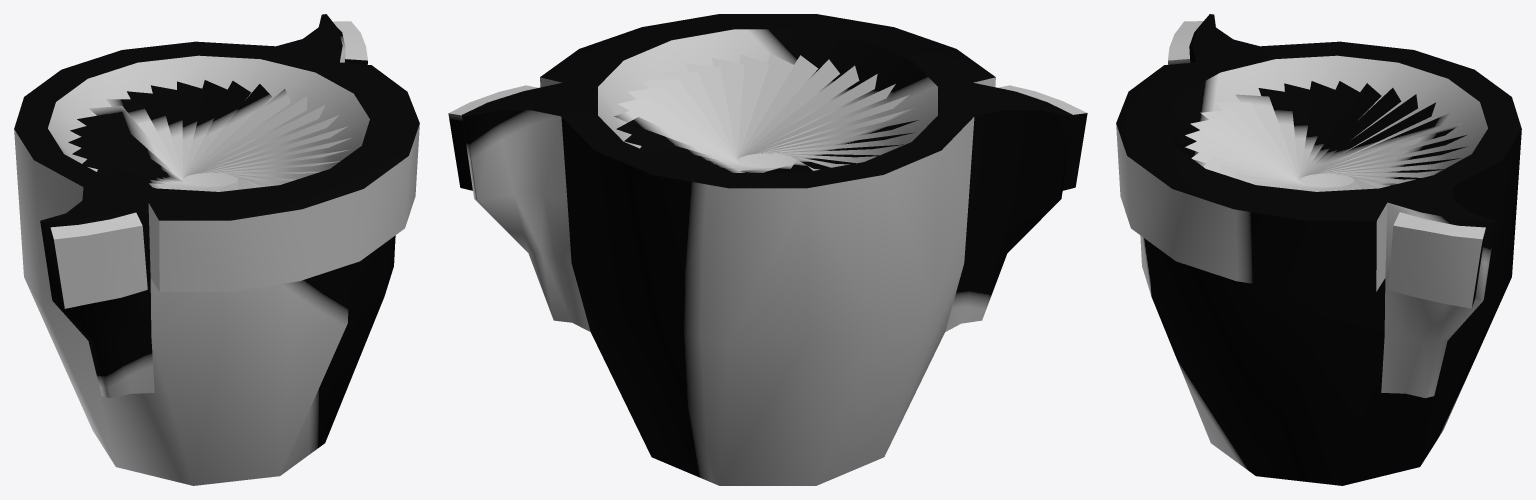
File: hitac_minion.obj
3 views of the same model, side by side, from view 1: azimuth 30°, elevation 25°; view 2: azimuth 150°, elevation 25°; view 3: azimuth 270°, elevation 25° (orthographic). The views are drawn at different scales.
Parts seen in each view (by area): view 1: Object002, engine007; view 2: Object002, engine007; view 3: Object002, engine007.
Part boxes in pixels (<box>): Object002: <box>14,14,419,485</box>; engine007: <box>68,80,351,191</box>; Object002: <box>448,14,1087,485</box>; engine007: <box>614,54,918,172</box>; Object002: <box>1116,14,1521,485</box>; engine007: <box>1185,81,1466,191</box>.
Bounding box in the file's own units: 82.75 × 55.41 × 65.11.
2 materials, 2 textured.
